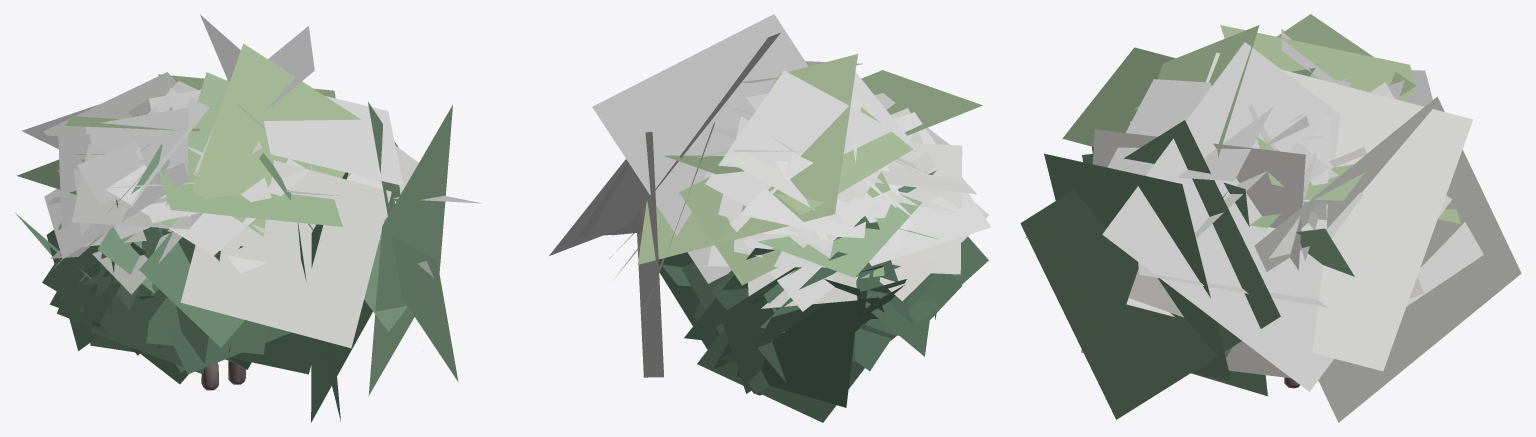
File: elder_v2.glb
3 renders of one model, left to right at view 1: azimuth 30°, elevation 25°; view 2: azimuth 150°, elevation 25°; view 3: azimuth 270°, elevation 25°, orthographic.
Parts seen in each view (by area): view 1: far, near; view 2: near, far; view 3: far, near.
Part boxes in pixels (x1,y1,x2,y2): far: (158,14,481,422); near: (14,72,418,390); near: (612,70,991,422); far: (549,14,982,377); far: (1020,25,1521,422); near: (1134,14,1432,388).
Size of the model in its own units: 7.65 by 6.39 by 8.11.
